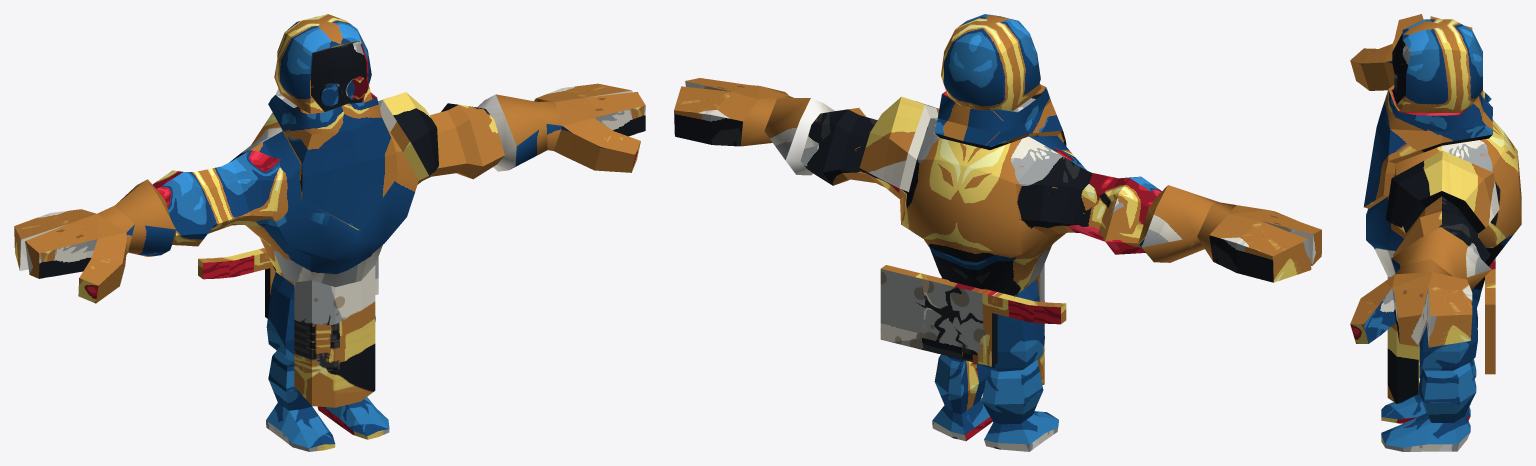
The model's file is LeDoc.fbx.
The picture shows the model from 3 angles, left to right: view 1: azimuth 30°, elevation 25°; view 2: azimuth 150°, elevation 25°; view 3: azimuth 270°, elevation 25°; orthographic projection. The views are drawn at different scales.
Visible parts, largest first — view 1: Check; view 2: Check; view 3: Check.
Boxes of the visible parts, x1=… form: Check: x1=14, y1=14, x2=645, y2=451; Check: x1=674, y1=14, x2=1321, y2=451; Check: x1=1350, y1=14, x2=1521, y2=451.
Bounding box in the file's own units: 341 × 212 × 81.87.
